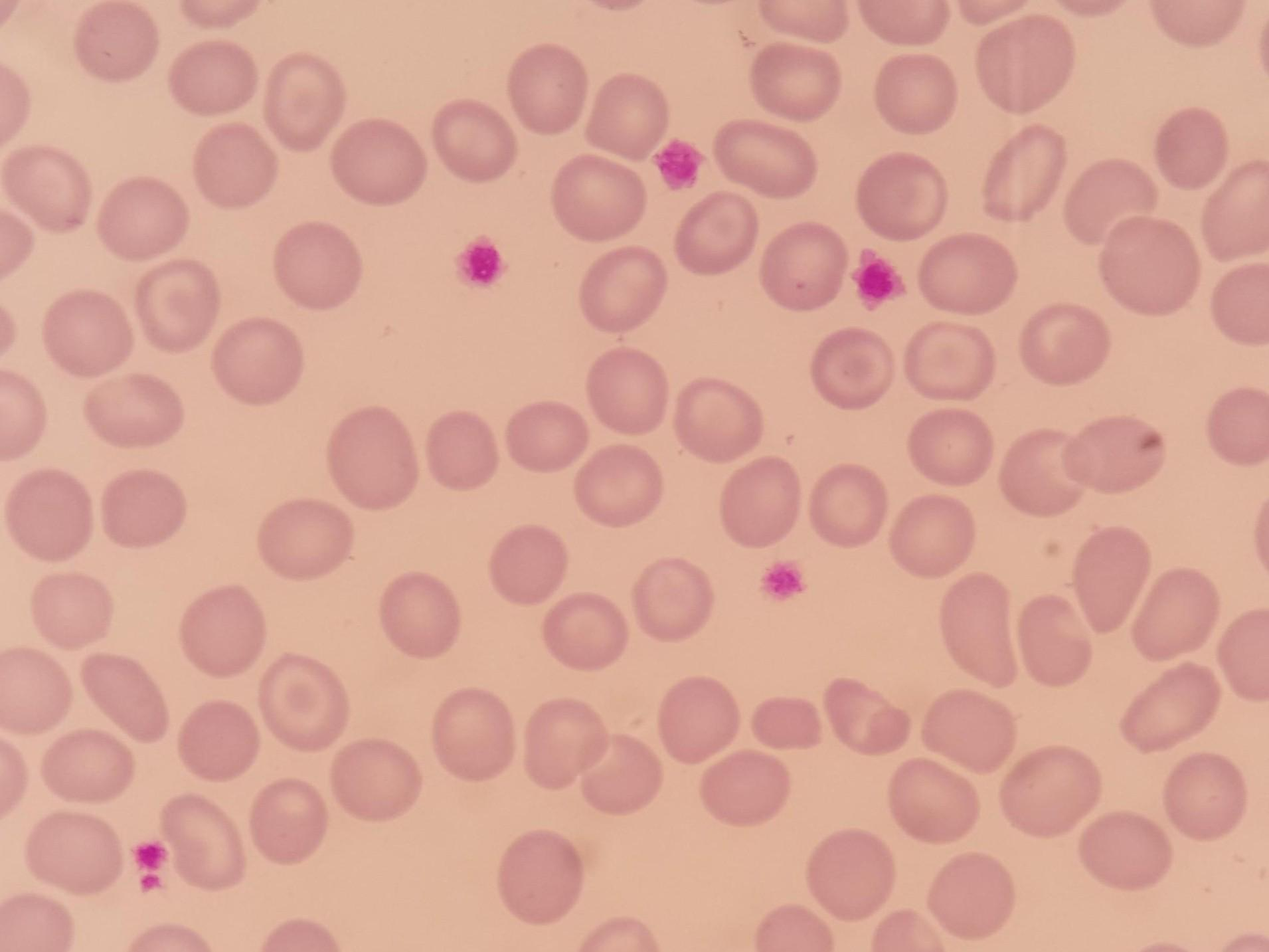Uninfected: (584, 247, 734, 315), (846, 825, 979, 898), (1114, 732, 1247, 805), (150, 750, 275, 825), (352, 704, 501, 765), (263, 842, 384, 916), (387, 848, 517, 916), (267, 194, 395, 261), (422, 803, 561, 864), (39, 605, 163, 672), (1002, 537, 1111, 613), (971, 736, 1098, 801), (276, 61, 399, 128), (947, 414, 1064, 484), (576, 749, 698, 816), (607, 798, 716, 872), (518, 5, 644, 69), (37, 373, 161, 438), (236, 689, 351, 759), (75, 19, 188, 90), (940, 798, 1056, 867), (215, 392, 338, 457), (1066, 197, 1192, 260), (763, 31, 883, 97), (15, 693, 133, 760), (994, 248, 1110, 316), (367, 134, 488, 199), (854, 570, 971, 637), (798, 101, 922, 164), (82, 123, 207, 185), (226, 325, 350, 387), (919, 73, 1033, 140), (669, 64, 775, 136), (855, 206, 972, 271), (948, 642, 1063, 708), (824, 434, 940, 499), (651, 505, 765, 571), (352, 762, 477, 822), (144, 667, 259, 732), (564, 430, 677, 496), (249, 493, 367, 556), (847, 689, 956, 757), (727, 160, 841, 225), (1104, 562, 1211, 631), (537, 540, 658, 601), (1052, 439, 1169, 502), (494, 194, 604, 261), (1087, 380, 1207, 441), (958, 3, 1072, 67), (148, 873, 267, 934), (686, 439, 803, 501), (81, 809, 186, 878), (733, 679, 841, 745), (174, 248, 282, 313), (616, 681, 724, 746), (989, 145, 1102, 207), (537, 75, 646, 139), (1159, 55, 1266, 120), (413, 474, 527, 535), (498, 669, 610, 731), (116, 186, 231, 246), (721, 608, 832, 670), (1089, 656, 1200, 718), (391, 285, 507, 344), (900, 506, 1010, 568), (1025, 323, 1134, 385), (166, 526, 268, 592), (536, 607, 650, 666), (227, 133, 337, 194), (1113, 127, 1216, 192), (754, 765, 860, 828), (262, 616, 363, 682), (375, 407, 481, 469), (197, 32, 296, 98), (182, 436, 288, 497), (461, 367, 569, 426), (400, 23, 508, 81), (614, 320, 723, 376), (919, 902, 1046, 950), (290, 1, 406, 53), (637, 380, 737, 439), (1014, 867, 1120, 922), (649, 906, 752, 952), (811, 909, 920, 950), (268, 561, 344, 617)
